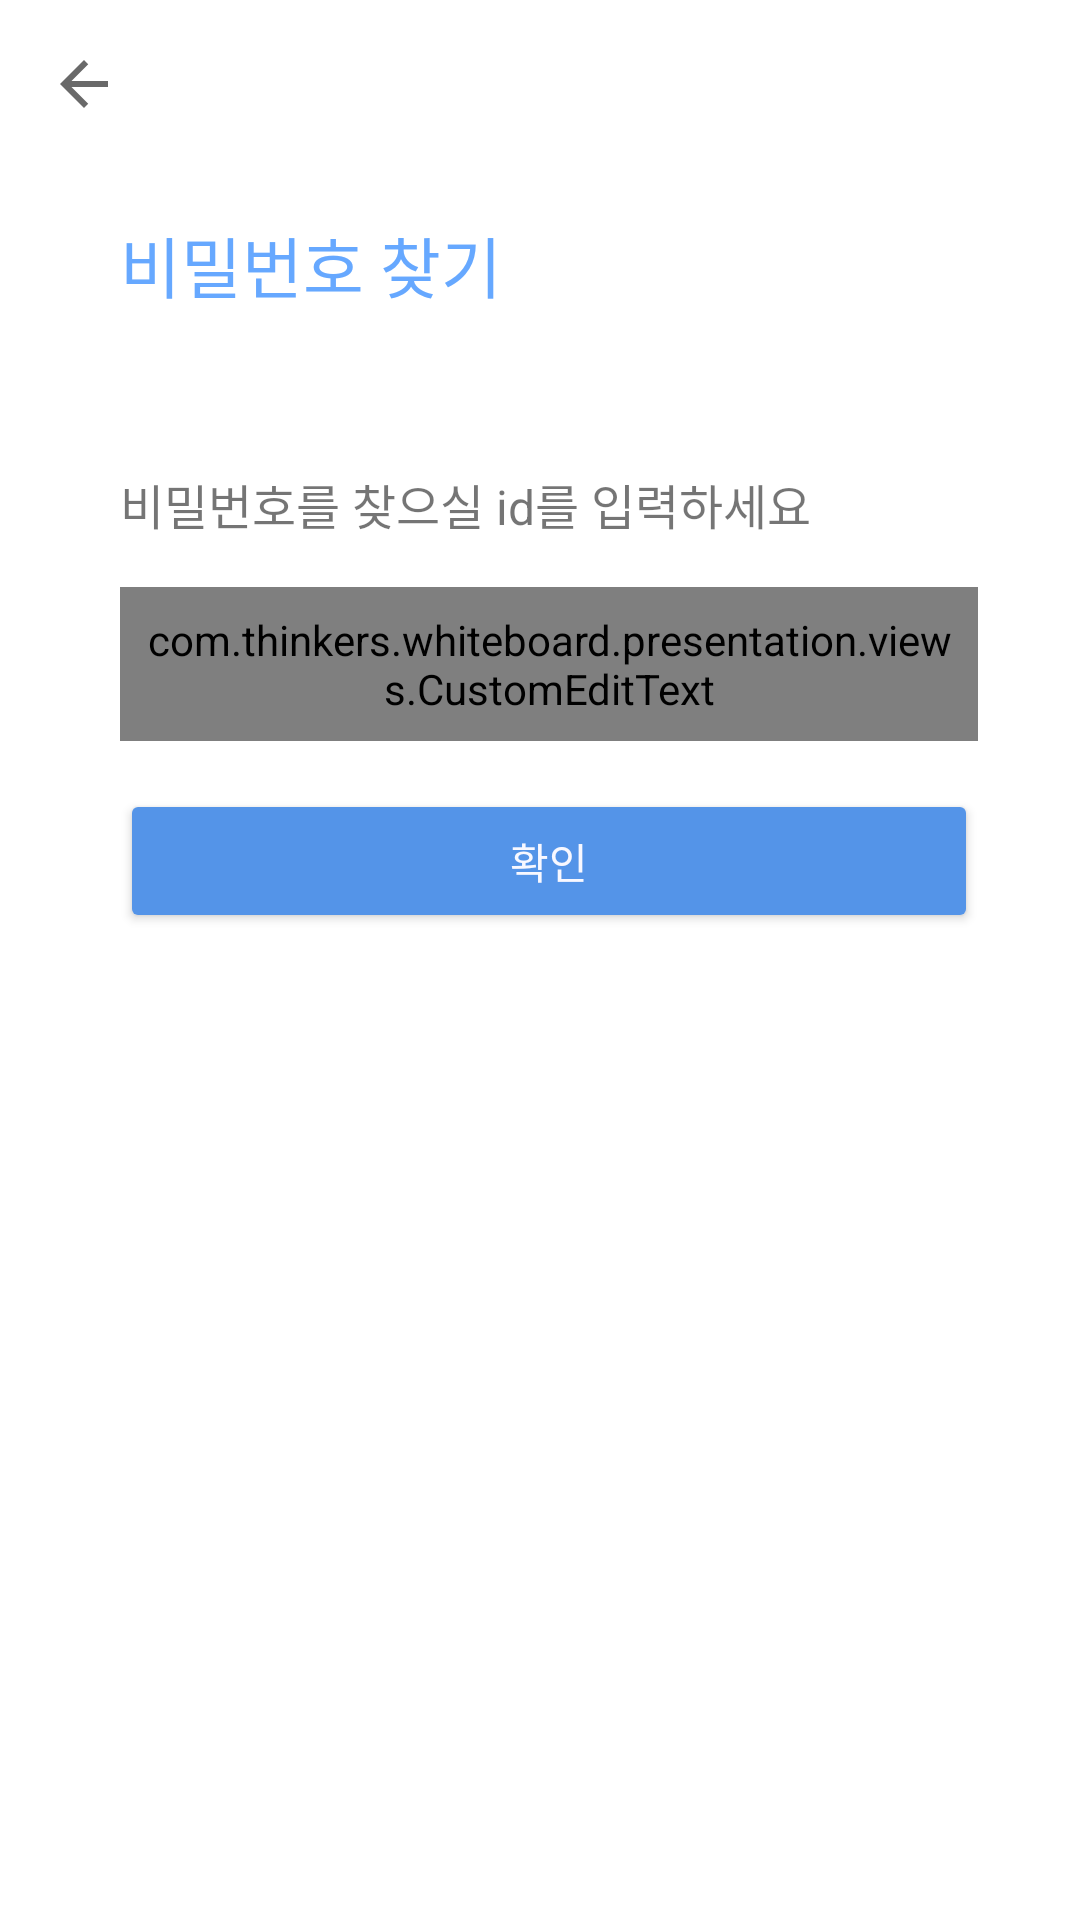

Point at icon controls on the screen. Image size 1080*1920, points as point (x, y).
appbar back: point (84, 84)
